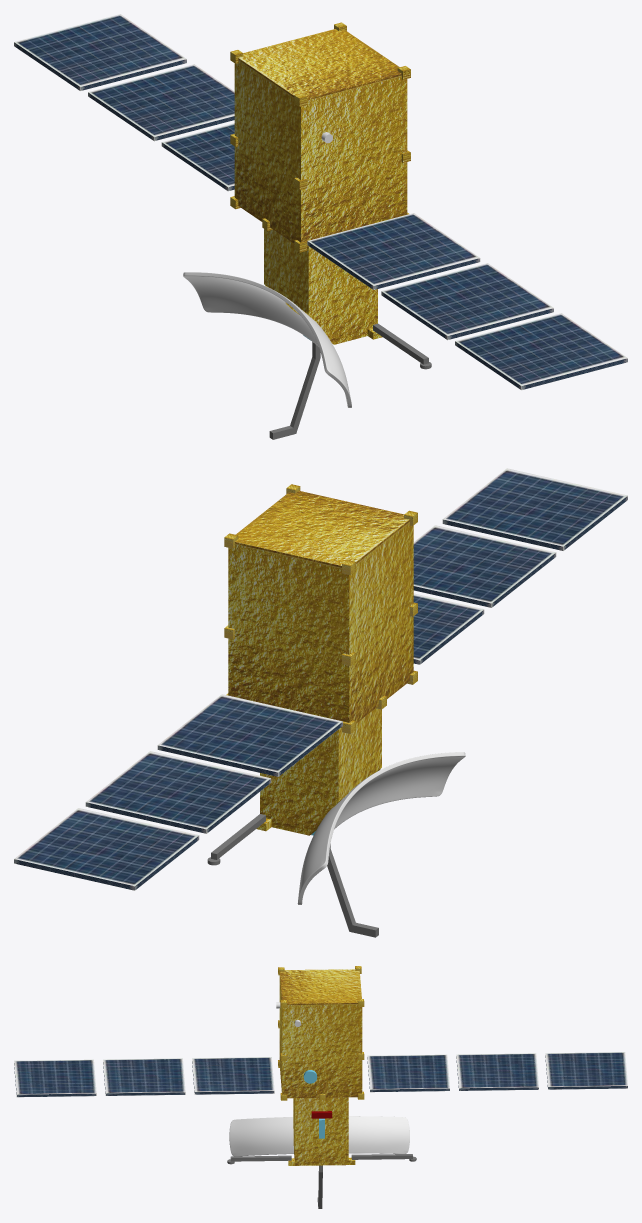
Rendered from satellite.gltf.
The picture shows the model from 3 angles, top to bottom: view 1: azimuth 30°, elevation 25°; view 2: azimuth 150°, elevation 25°; view 3: azimuth 270°, elevation 25°; orthographic projection. The views are drawn at different scales.
Visible parts, largest first — view 1: Box006, Object001; view 2: Box006, Object001; view 3: Box006, Object001.
Boxes of the visible parts, <box> form: Box006: <box>14,14,627,390</box>; Object001: <box>183,229,431,439</box>; Box006: <box>14,468,627,890</box>; Object001: <box>207,708,465,937</box>; Box006: <box>14,966,627,1100</box>; Object001: <box>227,1097,416,1208</box>.
Bounding box in the file's own units: 2.1 × 5.25 × 12.55.
Materials: 9 (3 with a texture image).
